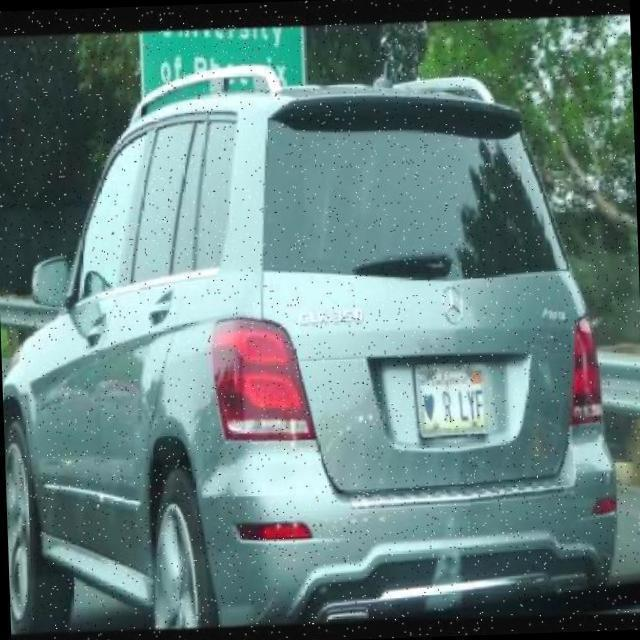license_plate: (414, 356, 491, 436)
